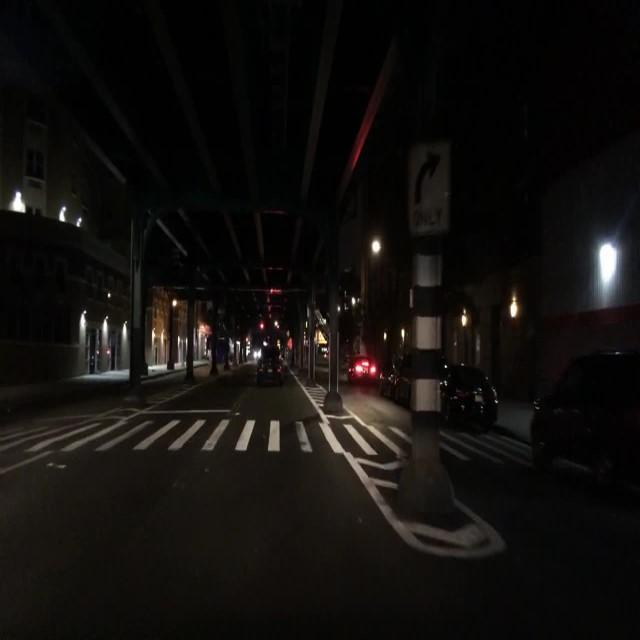normal: (441, 362, 501, 428), (343, 355, 379, 382)
